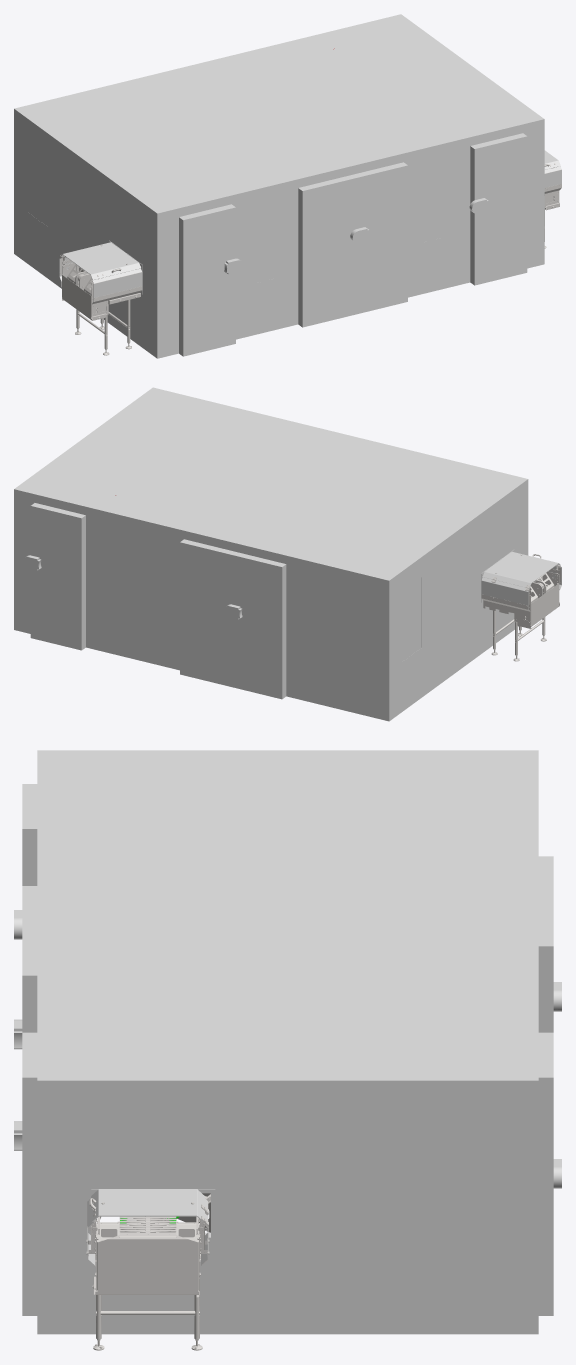
3 views of the same model, one above another, from view 1: azimuth 30°, elevation 25°; view 2: azimuth 150°, elevation 25°; view 3: azimuth 270°, elevation 25° (orthographic). The views are drawn at different scales.
Visible parts, largest first — view 1: glass, base; view 2: glass, base; view 3: glass, base.
Part boxes in pixels (<box>): glass: <box>14,14,561,358</box>; base: <box>59,48,561,355</box>; glass: <box>14,387,561,721</box>; base: <box>115,495,561,661</box>; glass: <box>14,750,561,1334</box>; base: <box>86,1193,210,1350</box>.
Bounding box in the file's own units: 6.79 × 2 × 3.91.
Materials: 1 (1 with a texture image).
